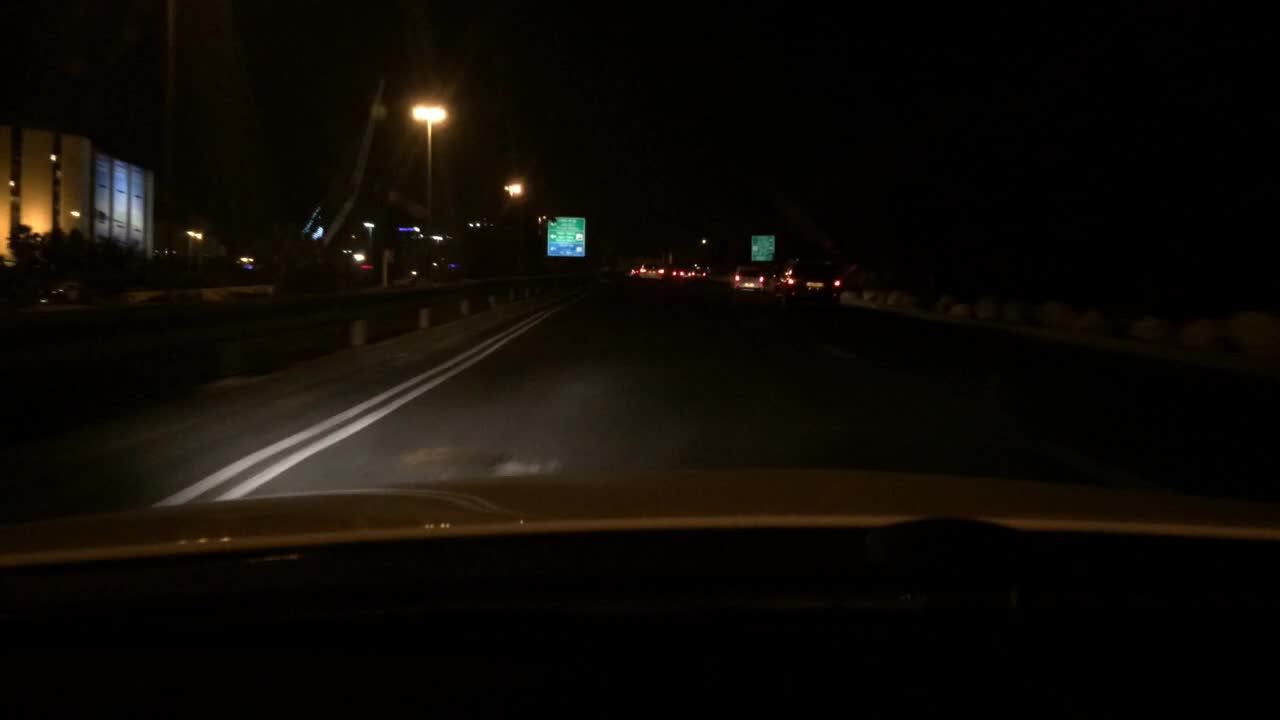car: (774, 255, 844, 308), (733, 266, 768, 293), (774, 271, 806, 296), (636, 261, 664, 278), (669, 264, 690, 281), (692, 264, 707, 279)
traffic sign: (545, 214, 586, 257), (754, 233, 775, 258)
